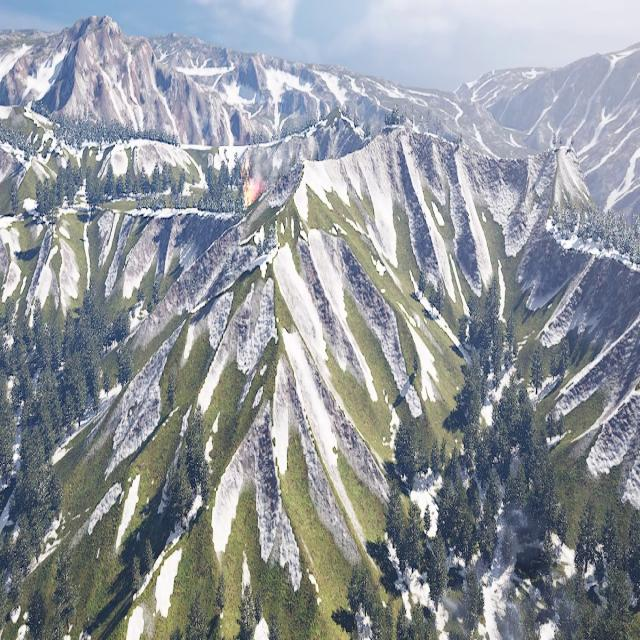fire: (244, 178, 259, 204)
smoke: (252, 144, 284, 184)
